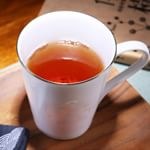cups: (15, 9, 150, 141)
